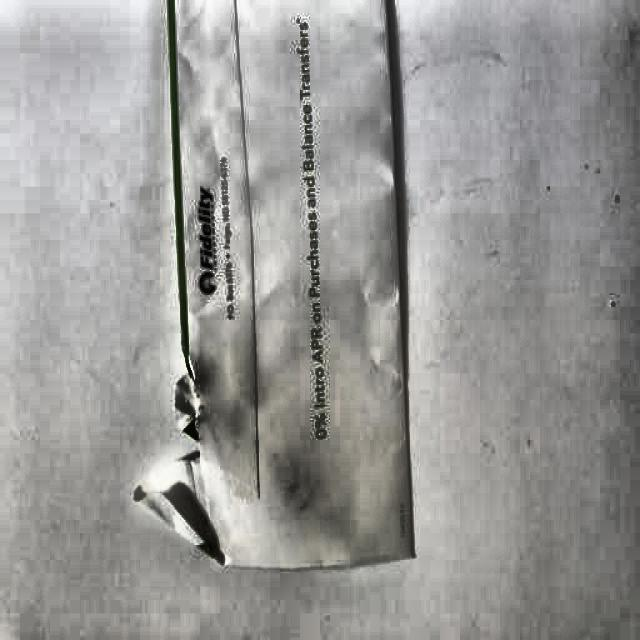paper: (132, 0, 422, 567)
